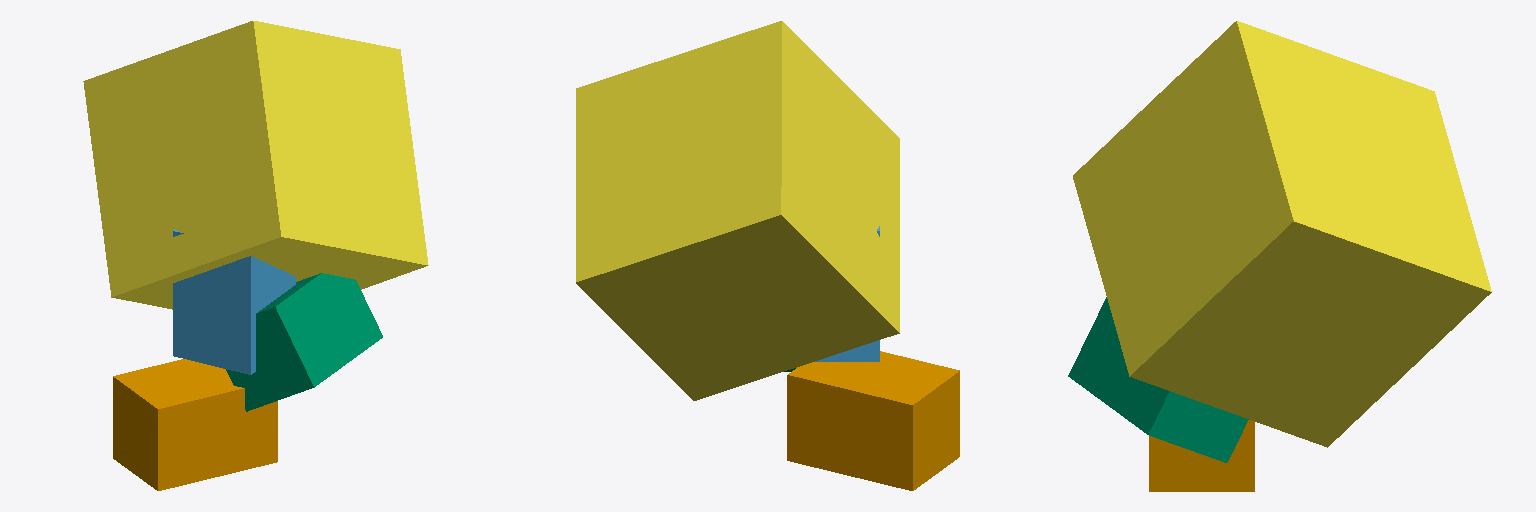
The robot description file, URDF, robot "segway_head":
<?xml version="1.0"?>
<robot name="segway_head">
  <link name="neck1">
    <visual>
      <geometry>
        <box size="0.061 0.04 0.04"/>
      </geometry>
    </visual>
  </link>

  <link name="neck2">
    <visual>
      <geometry>
        <box size="0.061 0.04 0.04"/>
      </geometry>
      <origin rpy="0 0.0 3.1415927" xyz="0.04 0 0"/>
    </visual>
  </link>

  <link name="neck3">
    <visual>
      <geometry>
        <box size="0.061 0.04 0.04"/>
      </geometry>
      <origin rpy="1.5707963 0 0" xyz="-0.015 0 0.045"/>
    </visual>
  </link>

  <link name="head">
    <visual>
      <geometry>
        <box size="0.1 0.1 0.1"/>
      </geometry>
      <origin rpy="0 0 0" xyz="0 0 0.08"/>
    </visual>
  </link>

  <joint name="pan" type="revolute">
    <parent link="neck1"/>
    <child link="neck2"/>
    <origin rpy="-2.62 -1.5707963 0" xyz="0.02 0 0.02"/>
    <limit effort="1000.0" lower="0.0" upper="5.24" velocity="0.5"/>
  </joint>

  <joint name="side" type="revolute">
    <parent link="neck2"/>
    <child link="neck3"/>
    <origin rpy="-2.62 1.5707963 0" xyz="0.055 0 0"/>
    <limit effort="1000.0" lower="0.0" upper="5.24" velocity="0.5"/>
  </joint>

  <joint name="tilt" type="revolute">
    <parent link="neck3"/>
    <child link="head"/>
    <origin rpy="-2.62 0 1.5707963" xyz="0 0 0.045"/>
    <limit effort="1000.0" lower="0.0" upper="5.24" velocity="0.5"/>
  </joint>
</robot>

--- Render facts (derived) ---
Views: 3 orthographic renders of the robot side by side, from view 1: azimuth 30°, elevation 25°; view 2: azimuth 150°, elevation 25°; view 3: azimuth 270°, elevation 25°.
Robot: segway_head — 4 links, 3 joints (3 revolute); root link neck1; default pose: every joint at zero.
Visible links, largest first — view 1: head, neck1, neck3, neck2; view 2: head, neck1, neck2; view 3: head, neck3, neck1.
Boxes of the visible links, x1,y1,x2,y2 form: head: (83, 21, 428, 309); neck1: (113, 359, 277, 490); neck3: (226, 273, 382, 411); neck2: (173, 229, 295, 374); head: (576, 21, 899, 400); neck1: (787, 351, 959, 490); neck2: (815, 226, 879, 361); head: (1073, 21, 1491, 447); neck3: (1068, 297, 1248, 462); neck1: (1149, 420, 1254, 491).
Size in the robot's own frame: 0.1552 by 0.1608 by 0.2002 metres.
Geometry: primitives only (box / cylinder / sphere), no mesh files.
